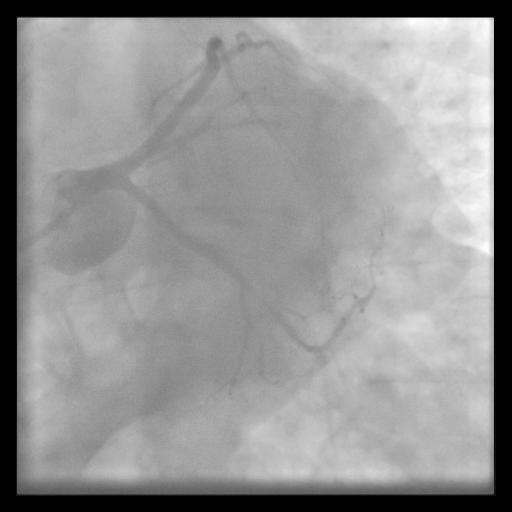Stenosis: (248, 283, 285, 321)
